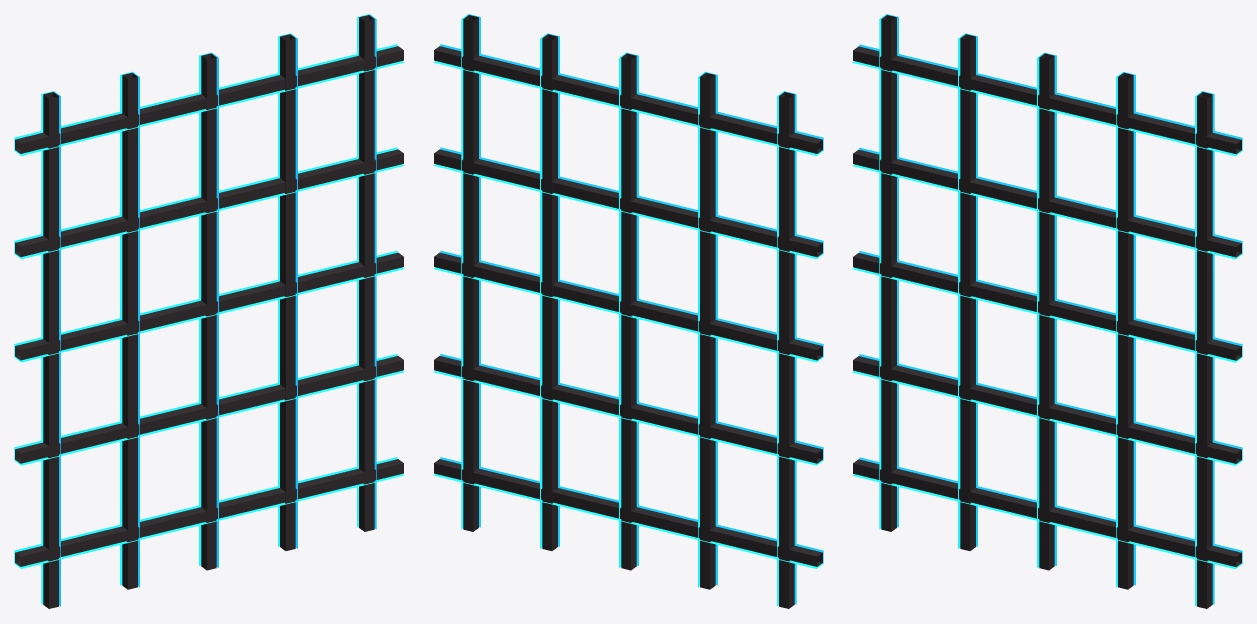
Rendered from door.glb.
The picture shows the model from 3 angles, left to right: view 1: azimuth 30°, elevation 25°; view 2: azimuth 150°, elevation 25°; view 3: azimuth 330°, elevation 25°; orthographic projection.
Visible parts, largest first — view 1: Door, DoorOutline; view 2: Door, DoorOutline; view 3: Door, DoorOutline.
Part boxes in pixels (x1,y1,x2,y2): Door: (15, 15, 403, 608); DoorOutline: (14, 14, 404, 606); Door: (434, 15, 822, 608); DoorOutline: (433, 14, 823, 606); Door: (853, 15, 1241, 608); DoorOutline: (852, 14, 1242, 606).
Size of what is drawn, in the model's own units: 2.17 by 2.76 by 0.0714.
2 materials, 2 textured.
